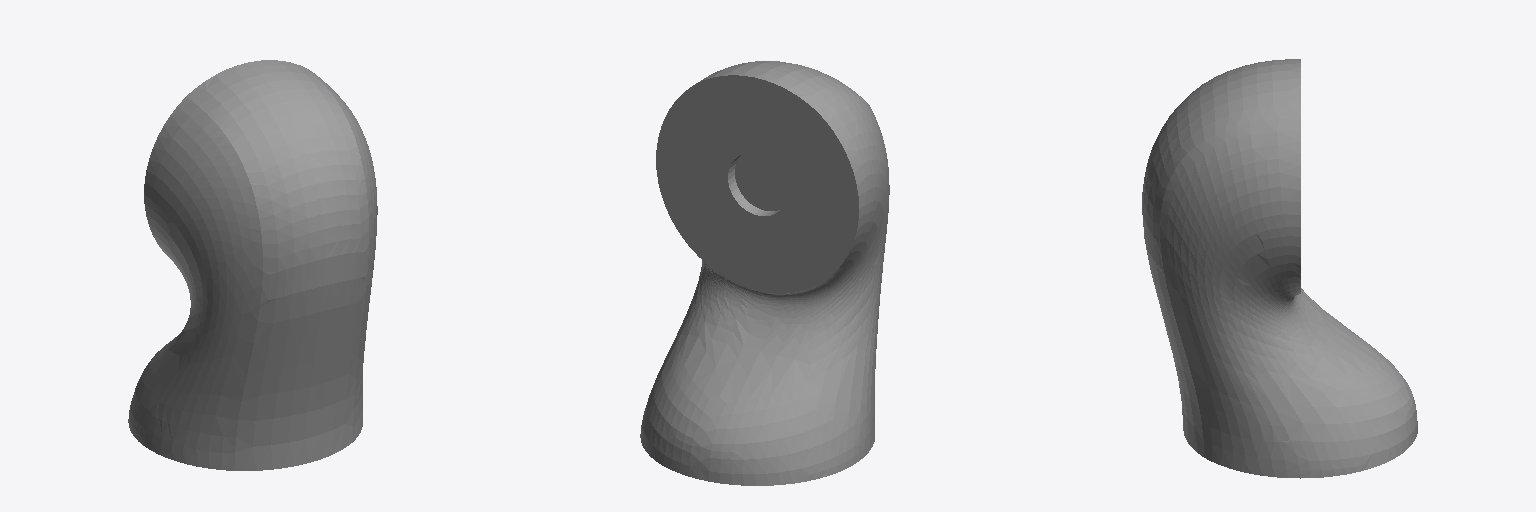
3 renders of one model, left to right at view 1: azimuth 30°, elevation 25°; view 2: azimuth 150°, elevation 25°; view 3: azimuth 270°, elevation 25°, orthographic.
Parts seen in each view (by area): view 1: ShapeIndexedFaceSet; view 2: ShapeIndexedFaceSet; view 3: ShapeIndexedFaceSet.
Boxes of the visible parts, box(x1,y1,x2,y2) form: ShapeIndexedFaceSet: box(128, 60, 377, 470); ShapeIndexedFaceSet: box(640, 61, 889, 485); ShapeIndexedFaceSet: box(1142, 59, 1417, 478).
Bounding box in the file's own units: 0.171 × 0.298 × 0.2012.